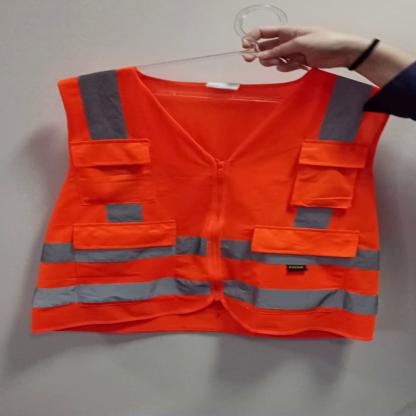colete: (26, 65, 390, 346)
